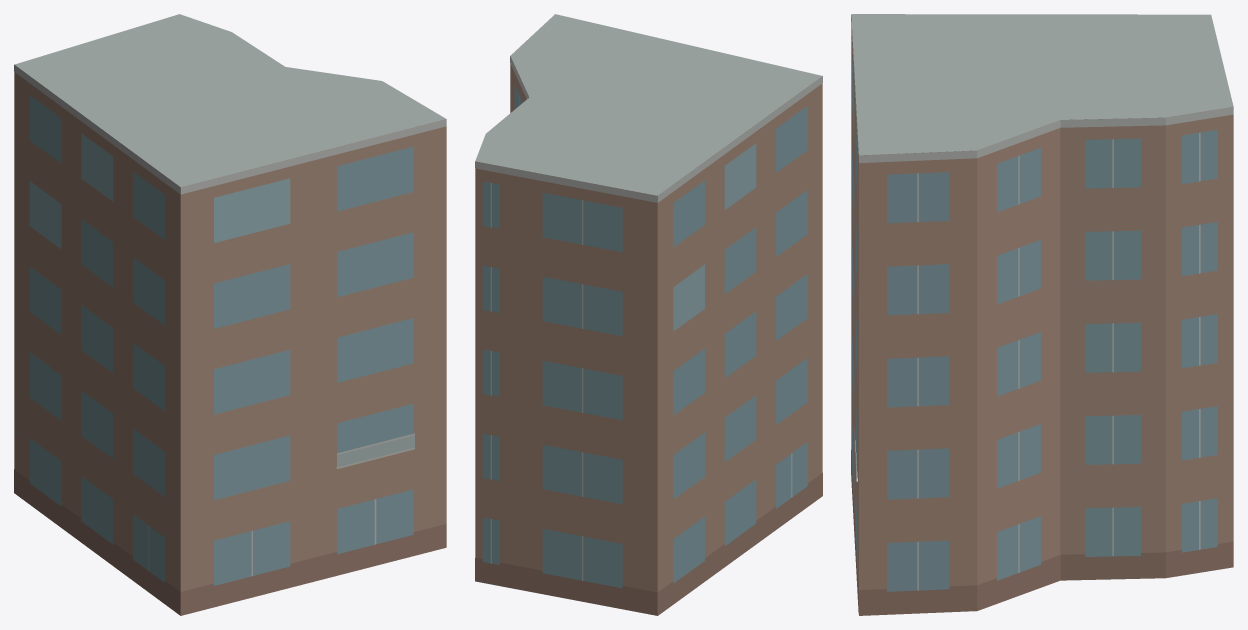
Rendered from survey-upis-32686480.glb.
3 renders of one model, left to right at view 1: azimuth 30°, elevation 25°; view 2: azimuth 150°, elevation 25°; view 3: azimuth 270°, elevation 25°, orthographic. The views are drawn at different scales.
Visible parts, largest first — view 1: survey-upis-32686480.tmp; view 2: survey-upis-32686480.tmp; view 3: survey-upis-32686480.tmp.
Boxes of the visible parts, x1=… form: survey-upis-32686480.tmp: x1=14, y1=14, x2=446, y2=615; survey-upis-32686480.tmp: x1=475, y1=14, x2=822, y2=615; survey-upis-32686480.tmp: x1=851, y1=14, x2=1233, y2=615.
Bounding box in the file's own units: 9.49 × 14.4 × 10.85.
